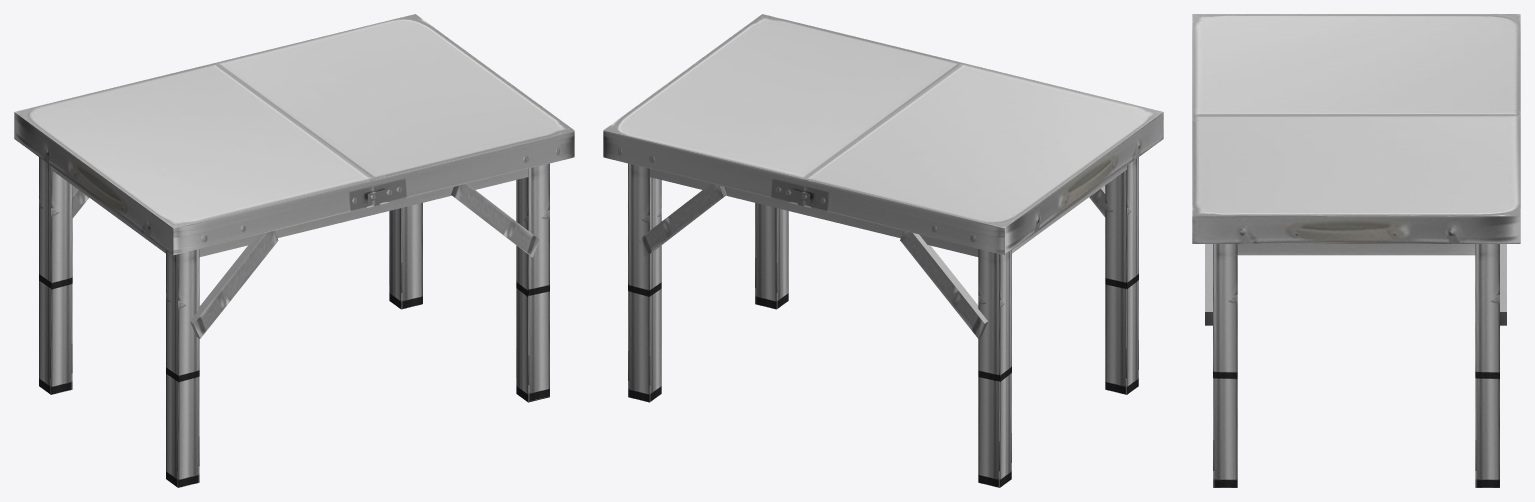
File: FoldingTable.fbx
3 renders of one model, left to right at view 1: azimuth 30°, elevation 25°; view 2: azimuth 150°, elevation 25°; view 3: azimuth 270°, elevation 25°, orthographic. The views are drawn at different scales.
Parts seen in each view (by area): view 1: Mesa_plegable; view 2: Mesa_plegable; view 3: Mesa_plegable.
Boxes of the visible parts, x1,y1,x2,y2 form: Mesa_plegable: (14,14,574,487); Mesa_plegable: (603,14,1163,487); Mesa_plegable: (1192,14,1520,487).
Bounding box in the file's own units: 2.39 × 1.64 × 1.54.
